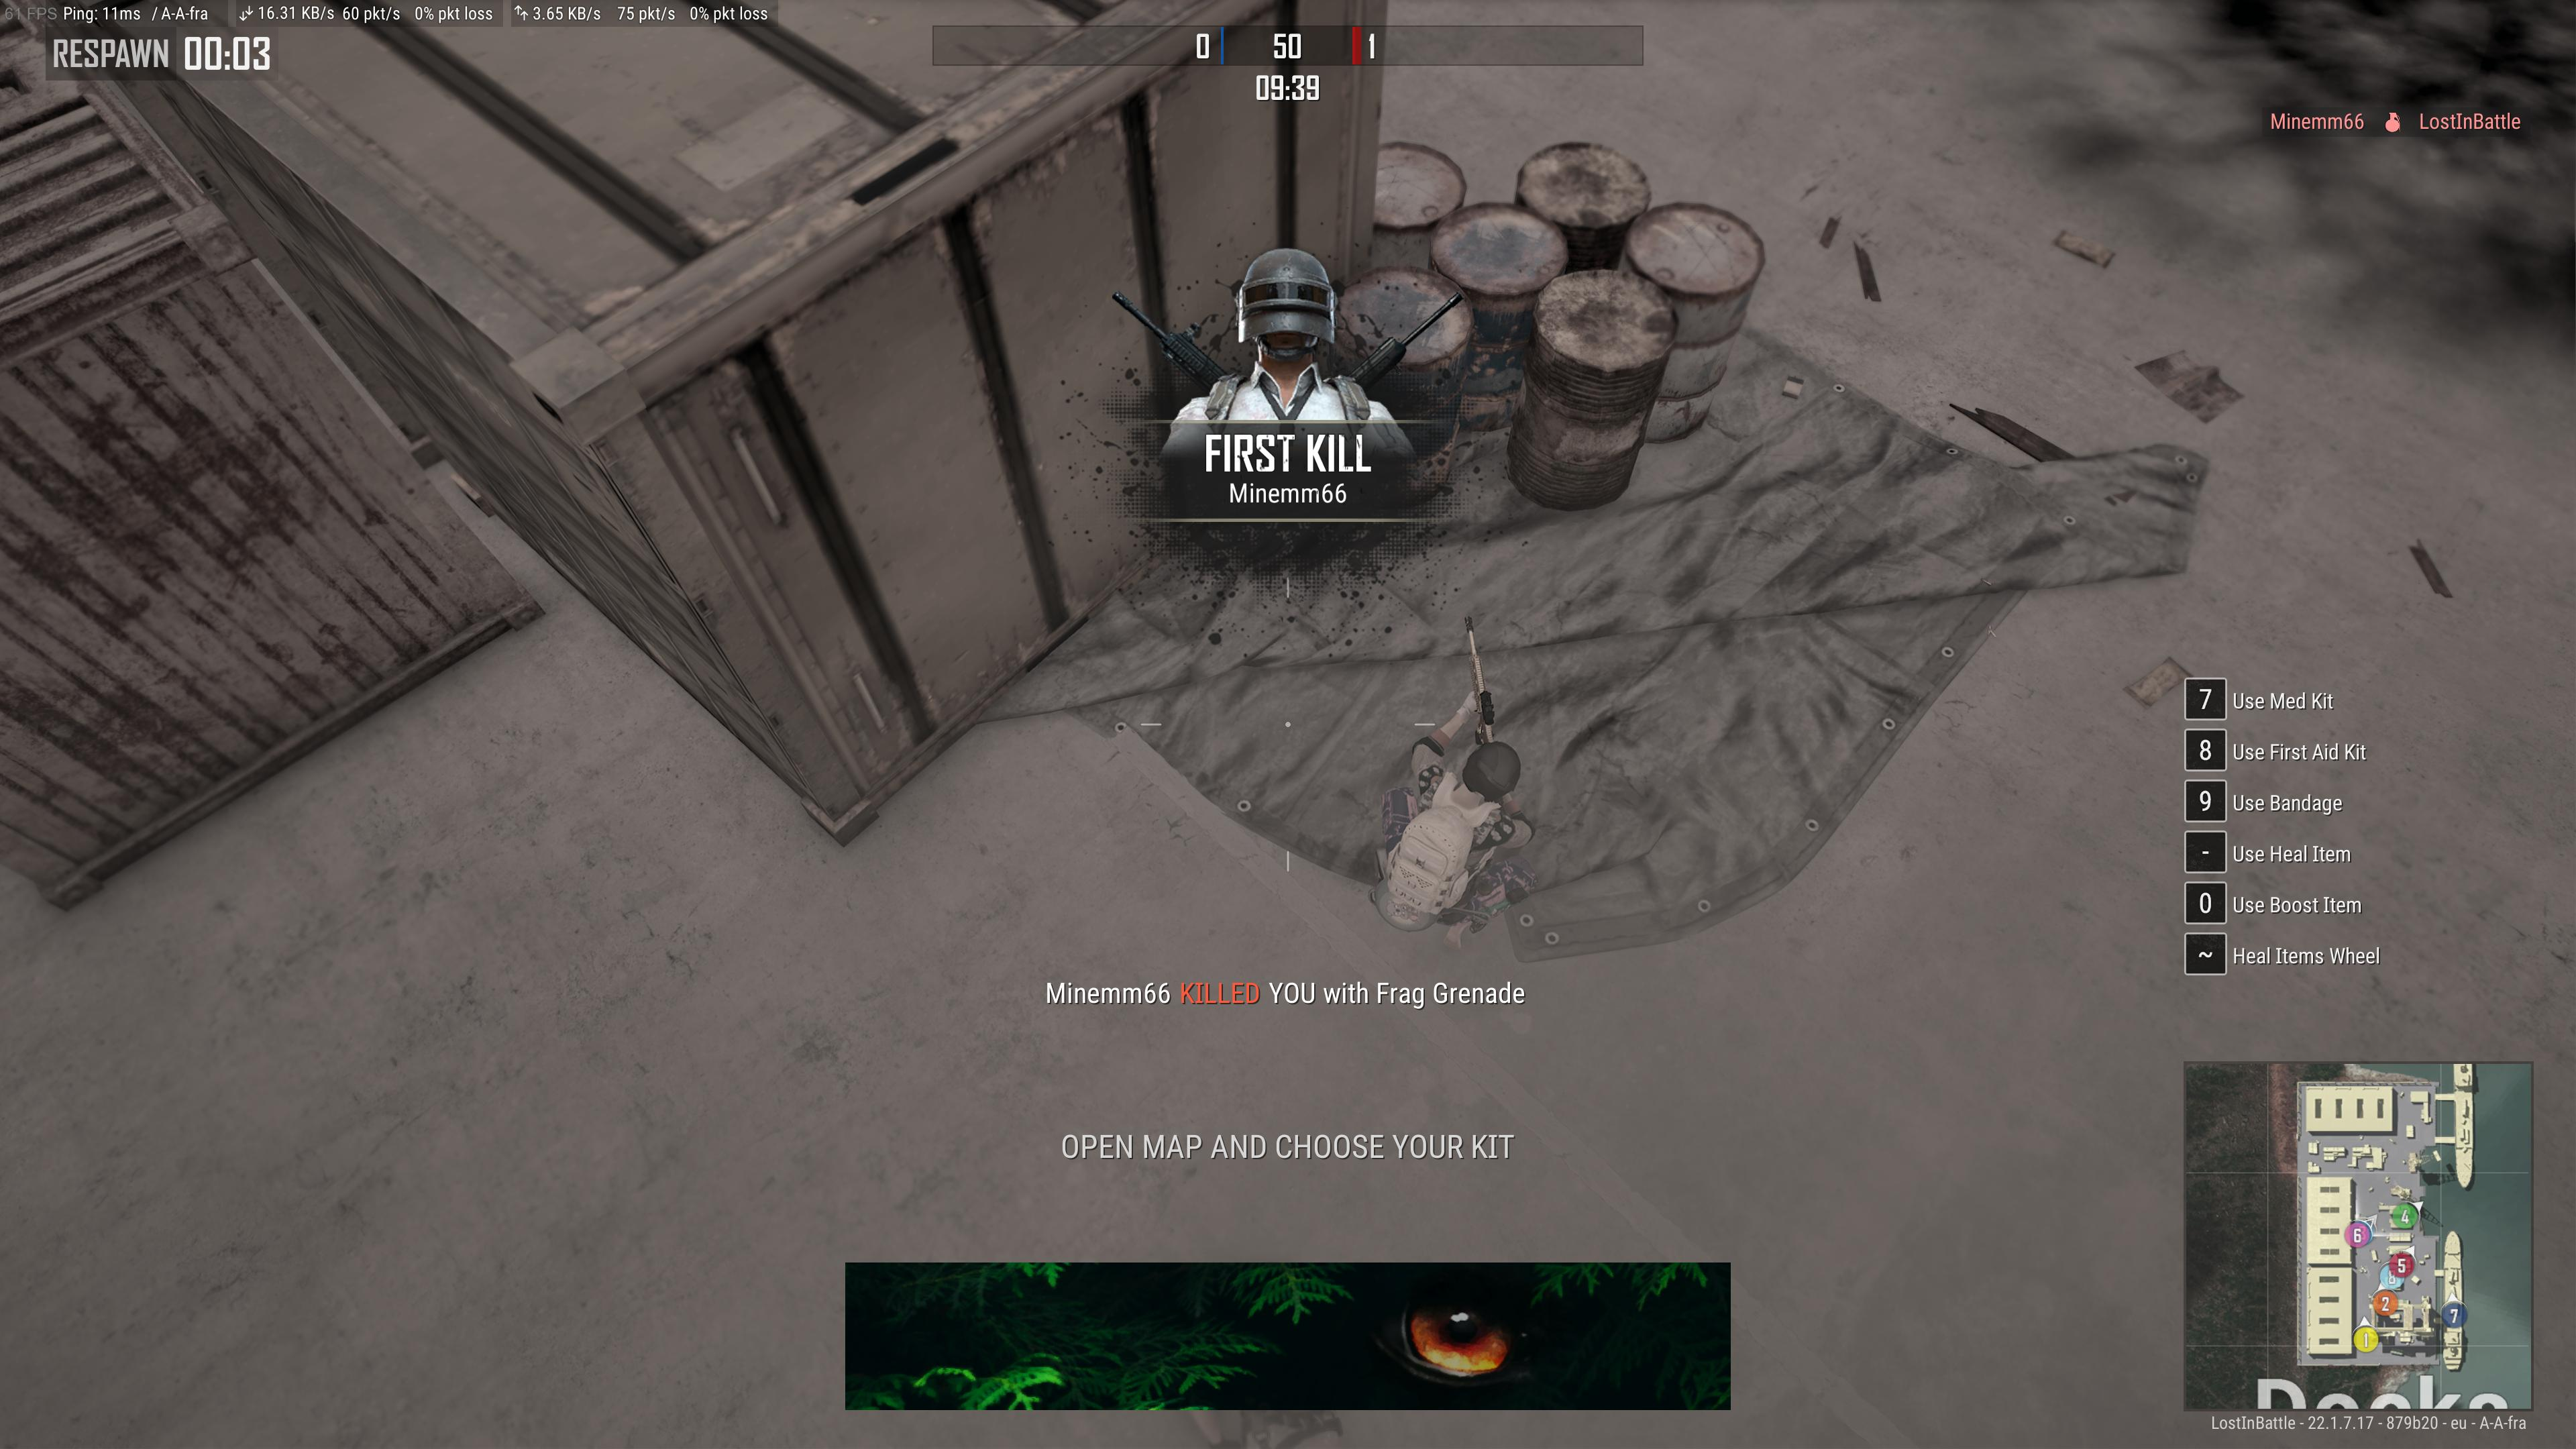enemy: (1366, 686, 1534, 954)
enemy_head: (1233, 244, 1336, 361), (1460, 740, 1522, 801)
